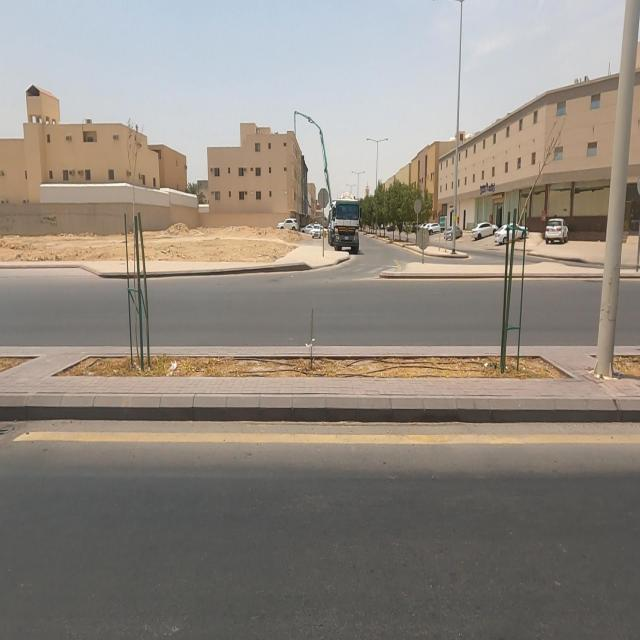debris: (144, 326, 198, 406), (464, 334, 509, 394)
